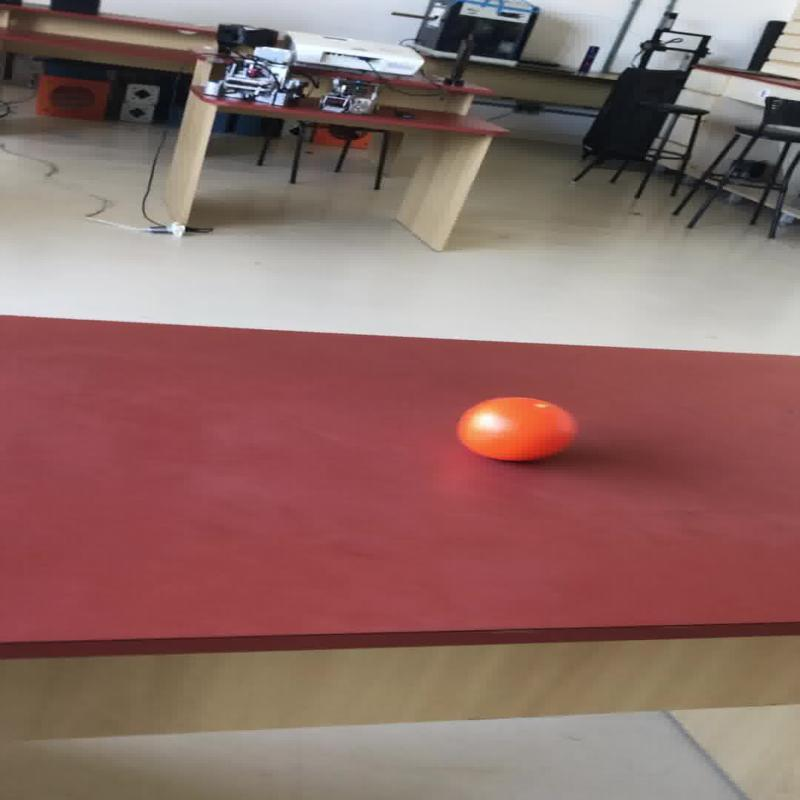orange: (454, 396, 576, 462)
